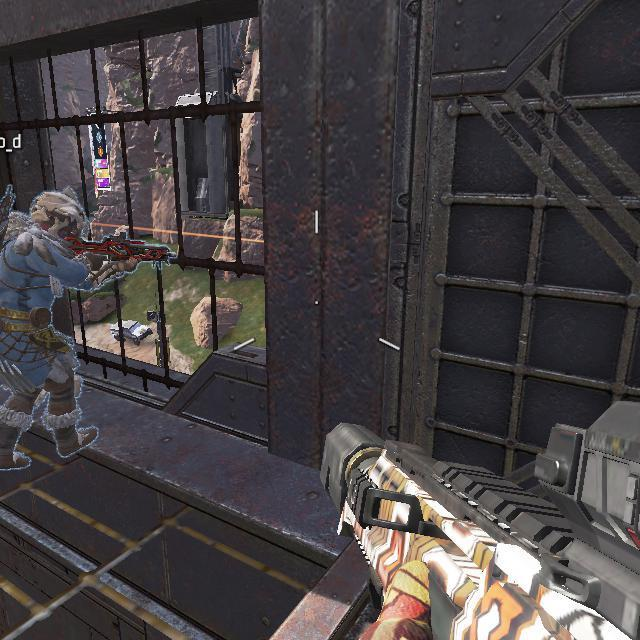avatar: (0, 185, 94, 473)
